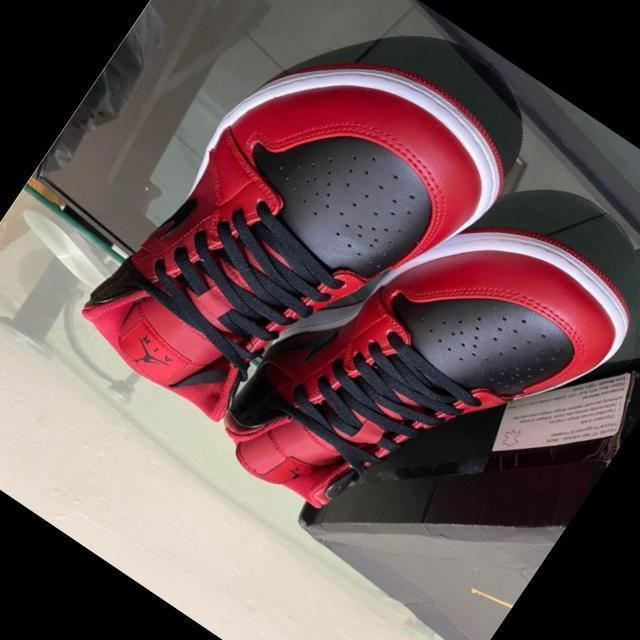nike original jordan 1: (170, 133, 640, 640), (64, 0, 533, 487)
